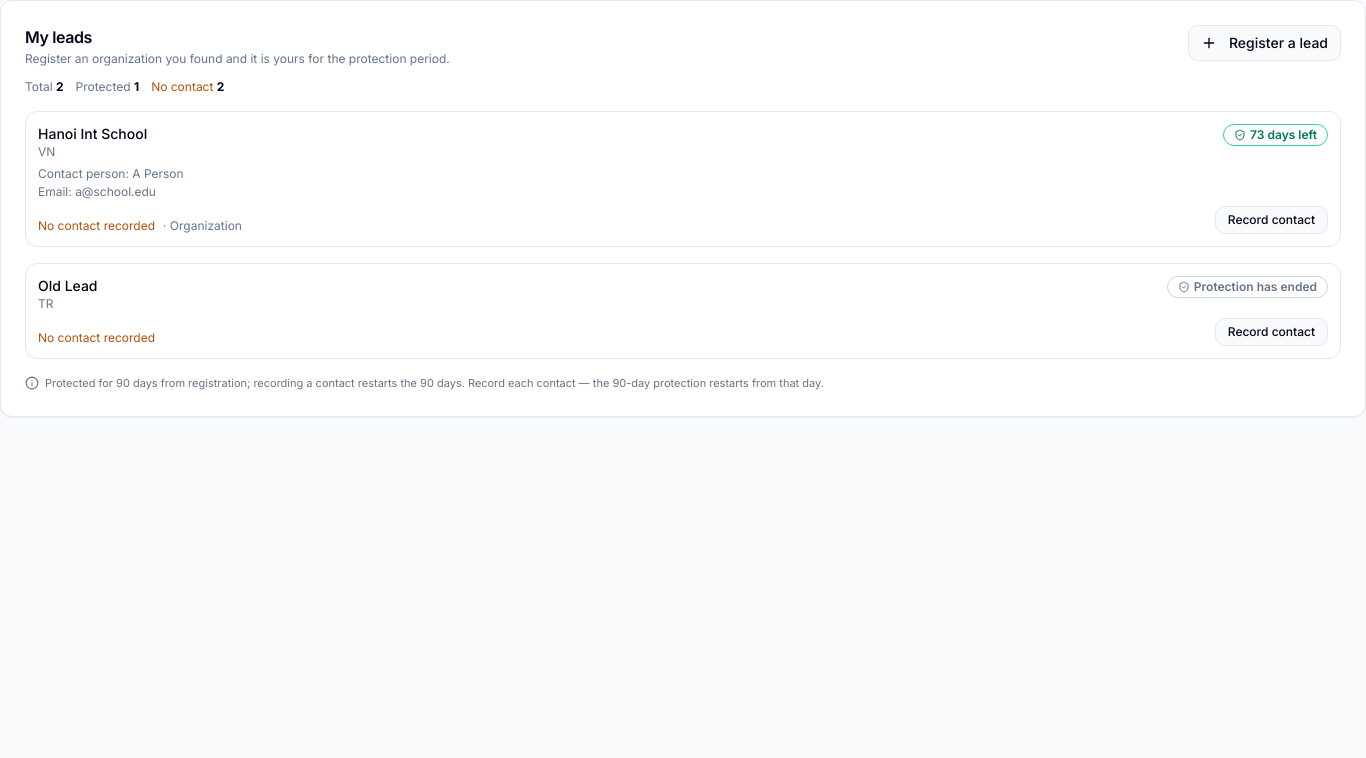
Test: 내 리드 화면 › **최종 사용자를 고르면 동의 체크가 나타나고, 그 전에는 보낼 수 없다**
Check: the text "Hanoi Int School" is shown, box [38,124,147,144]
Click the button "Register a lead".
click(1264, 43)  # box [1188,25,1341,61]
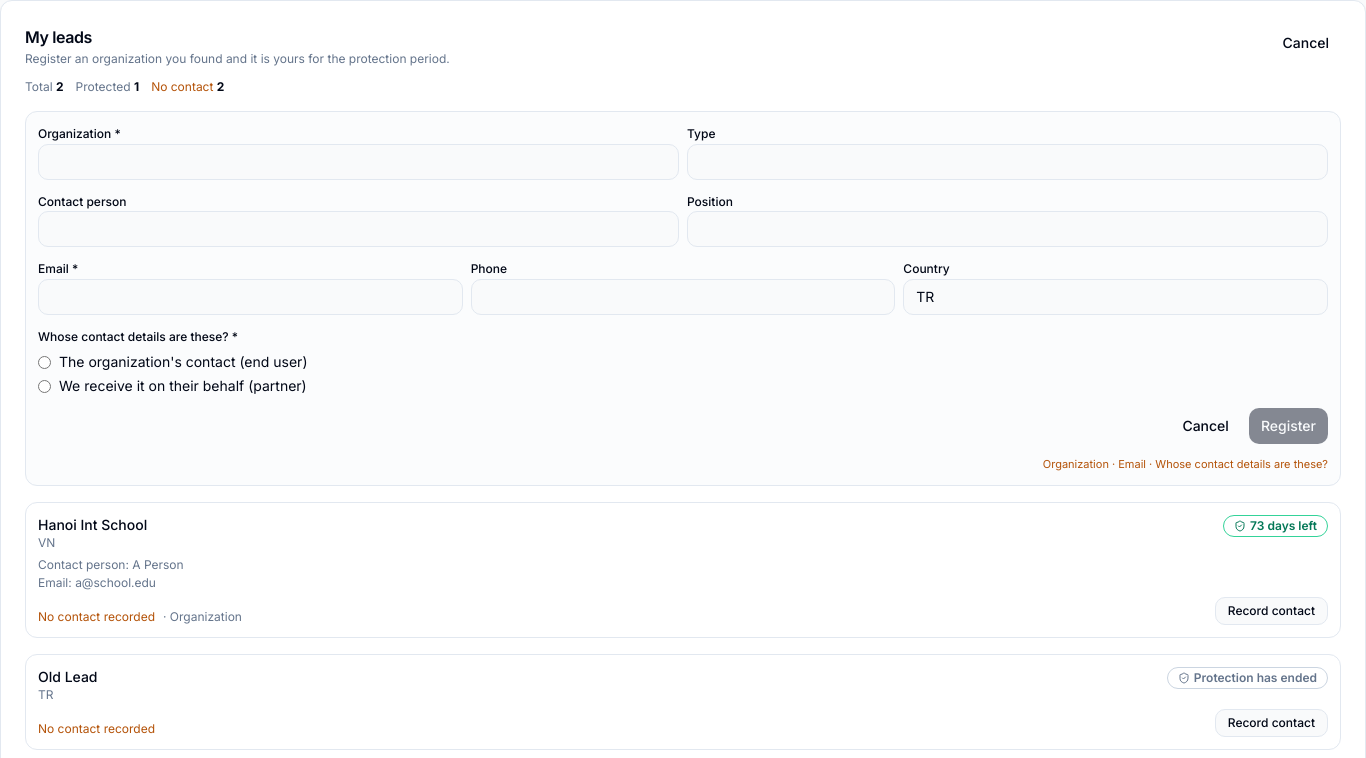
Type "New School" into the field below "Organization *".
click(358, 162); type("New School")  # box [38,144,679,180]
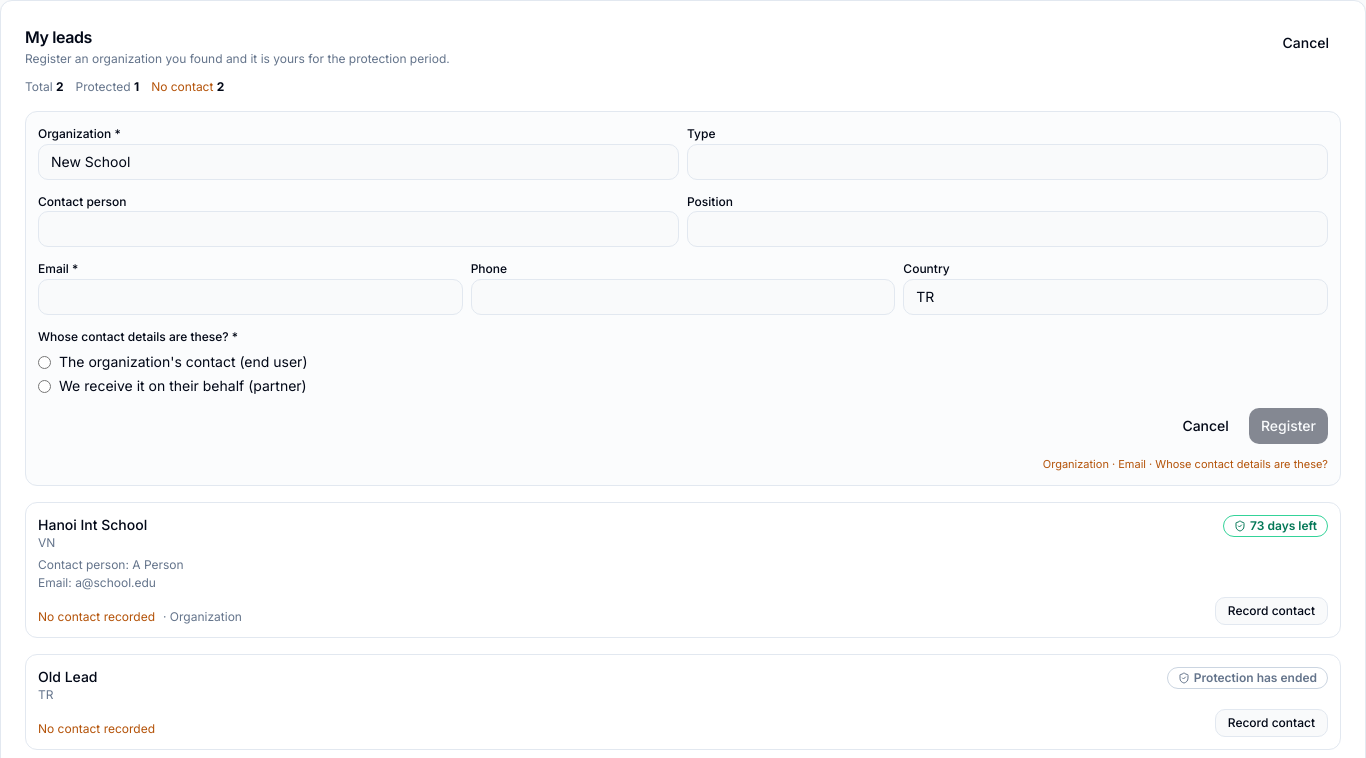
Type "new@school.edu" into the field below "Email *".
click(250, 296); type("new@school.edu")  # box [38,278,463,314]
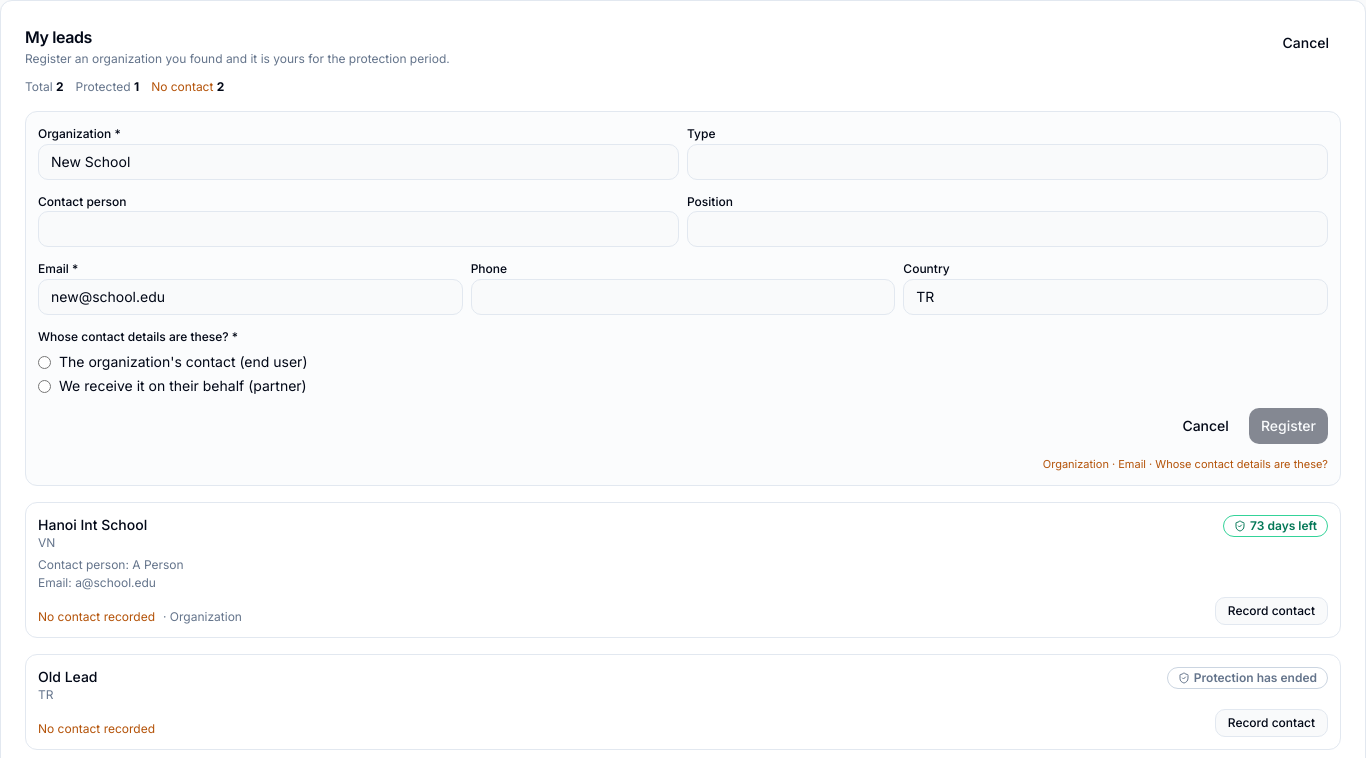
Click the radio button labelled "The organization's contact (end user)".
click(44, 362)  # box [38,356,51,368]
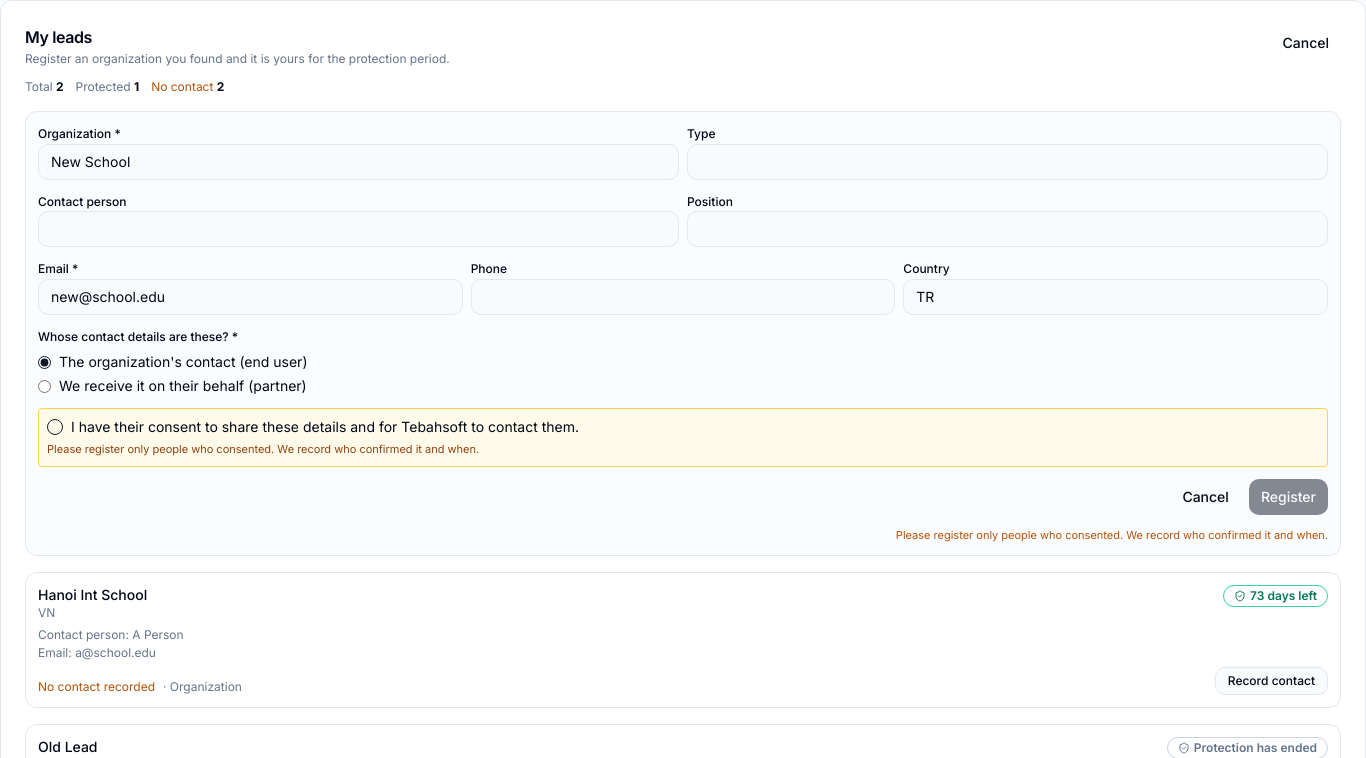
Check: the button "Register" is disabled, box [1249,478,1328,514]
Check: the text "I have their consent" is shown, box [71,418,579,435]
